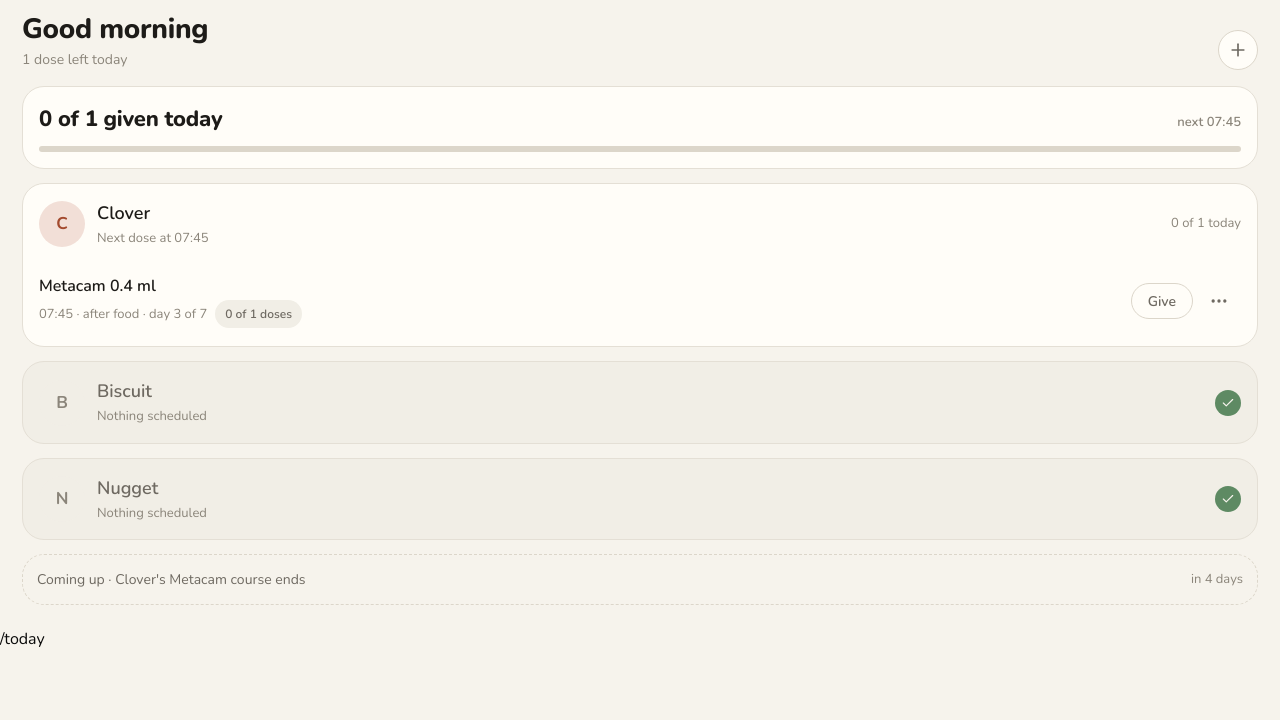
TodayPage › offers an early-give confirm dialog on a duplicate Give for a later (not-yet-due) dose, and cancelling changes nothing
Click the button "Give" at (1162,301), box top-left (1131, 283), bottom-right (1193, 319)
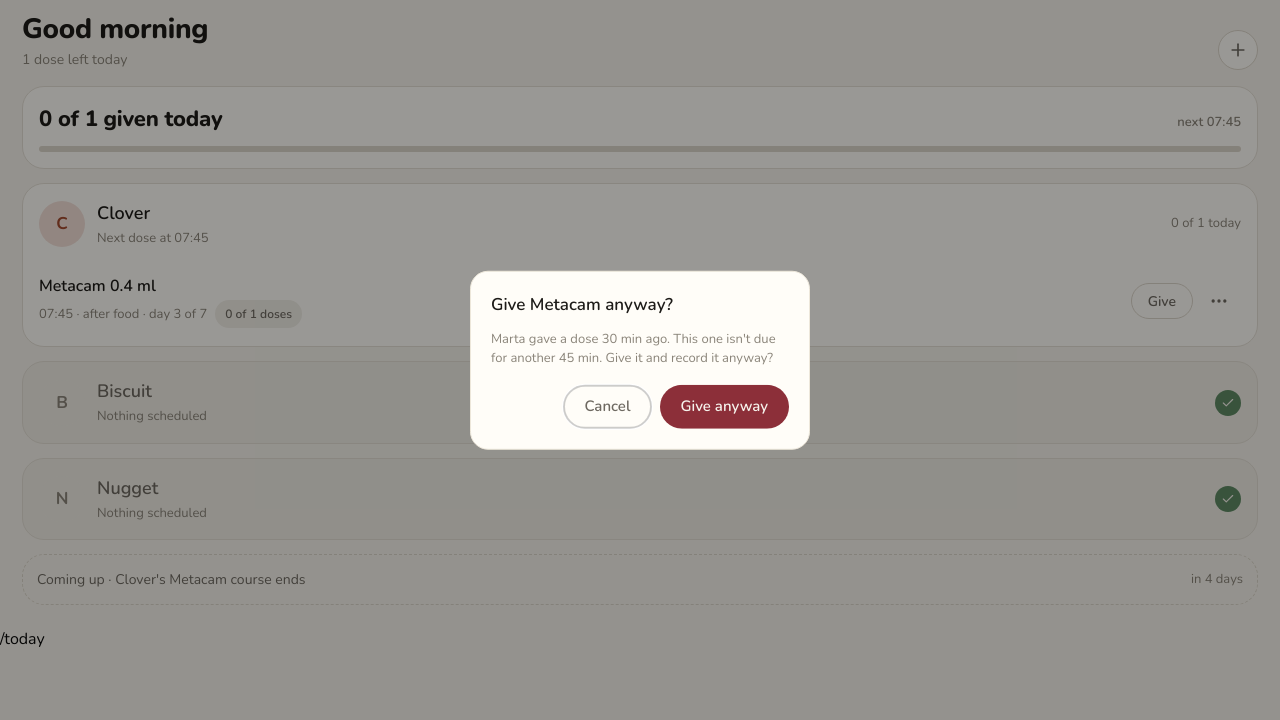
Check: the heading "Give Metacam anyway?" is shown, box top-left (491, 293), bottom-right (673, 316)
Check: the text "Marta gave a dose 30 min ago. This one isn't due for another 45 min. Give it and record it anyway?" is shown, box top-left (491, 329), bottom-right (776, 367)
Click the button "Cancel" at (607,406), box top-left (563, 384), bottom-right (652, 428)
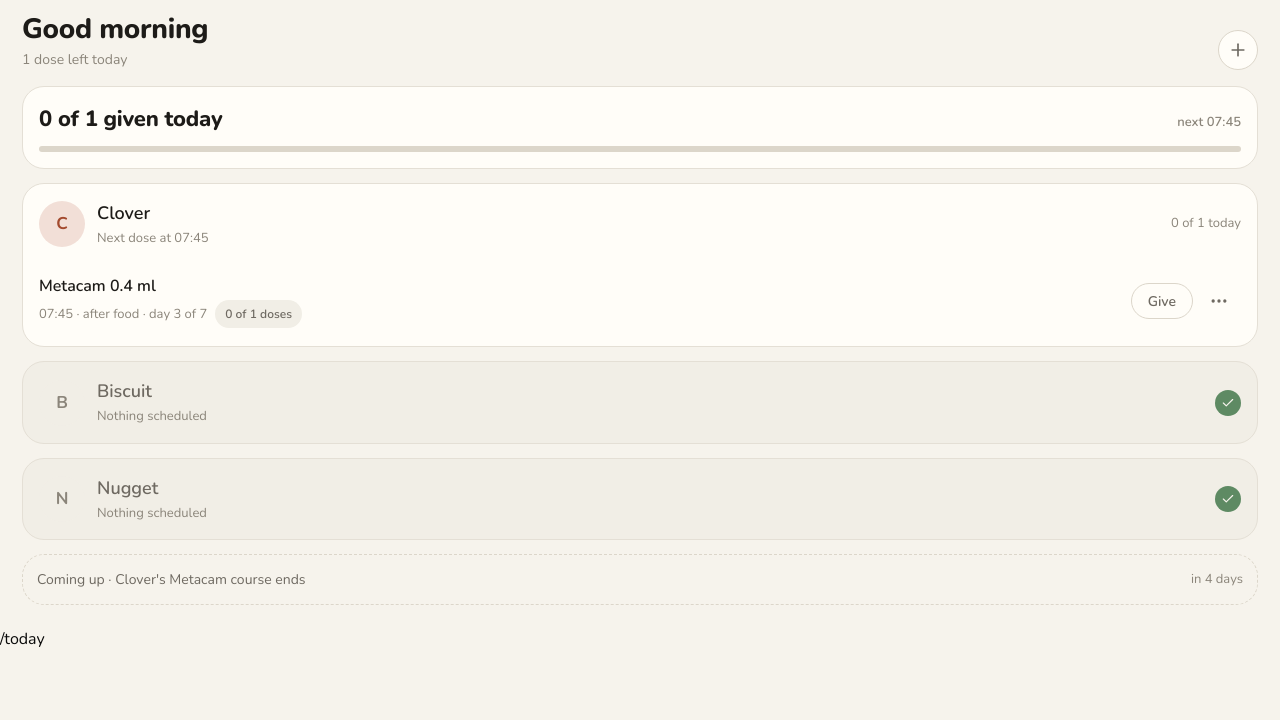
Check: the button "Give" is shown, box top-left (1131, 283), bottom-right (1193, 319)
Check: the heading "Give Metacam anyway?" is gone
